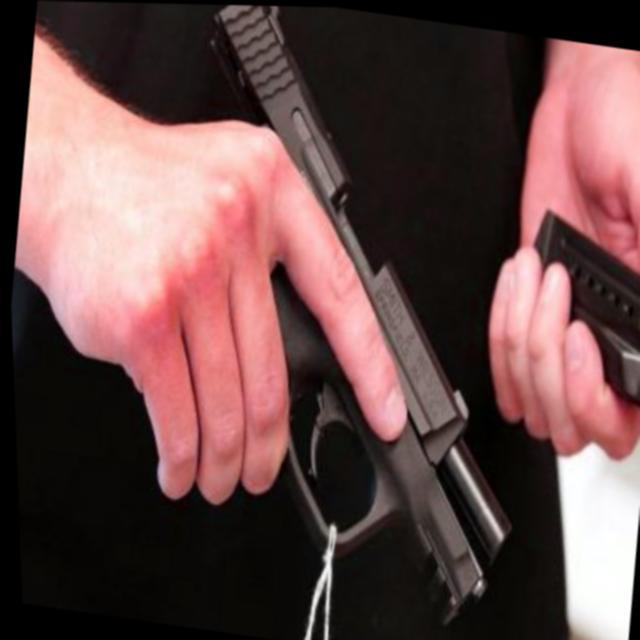weapon: (82, 1, 584, 640)
